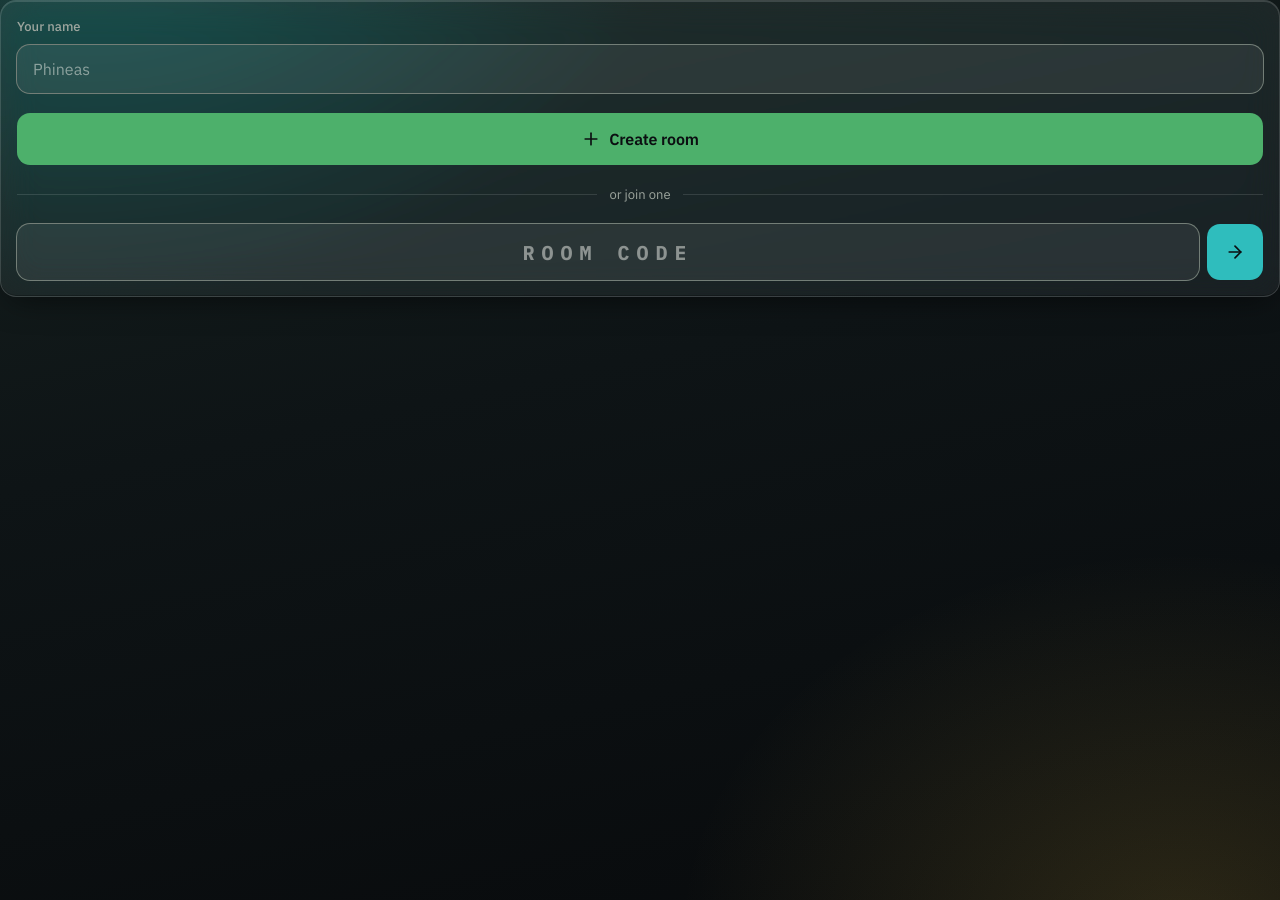
joining a room from the home screen › refuses to navigate without a code, and says why
The image size is (1280, 900).
Step 1. Type "Ravi" into the field labelled "Your name" → (640, 68), box [17,44,1263,92]
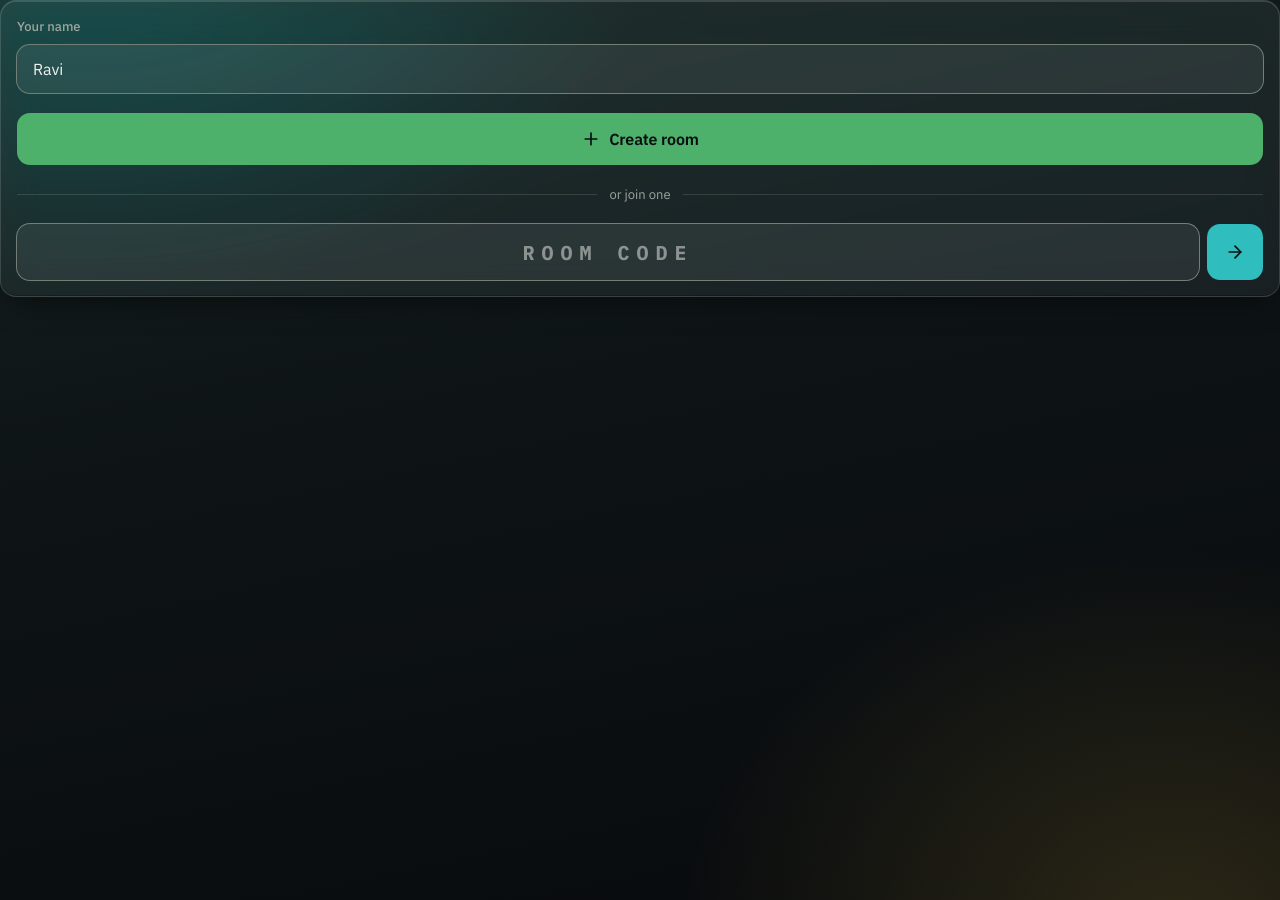
Step 2. Click the button named "join" → (1235, 252), box [1207,224,1263,280]
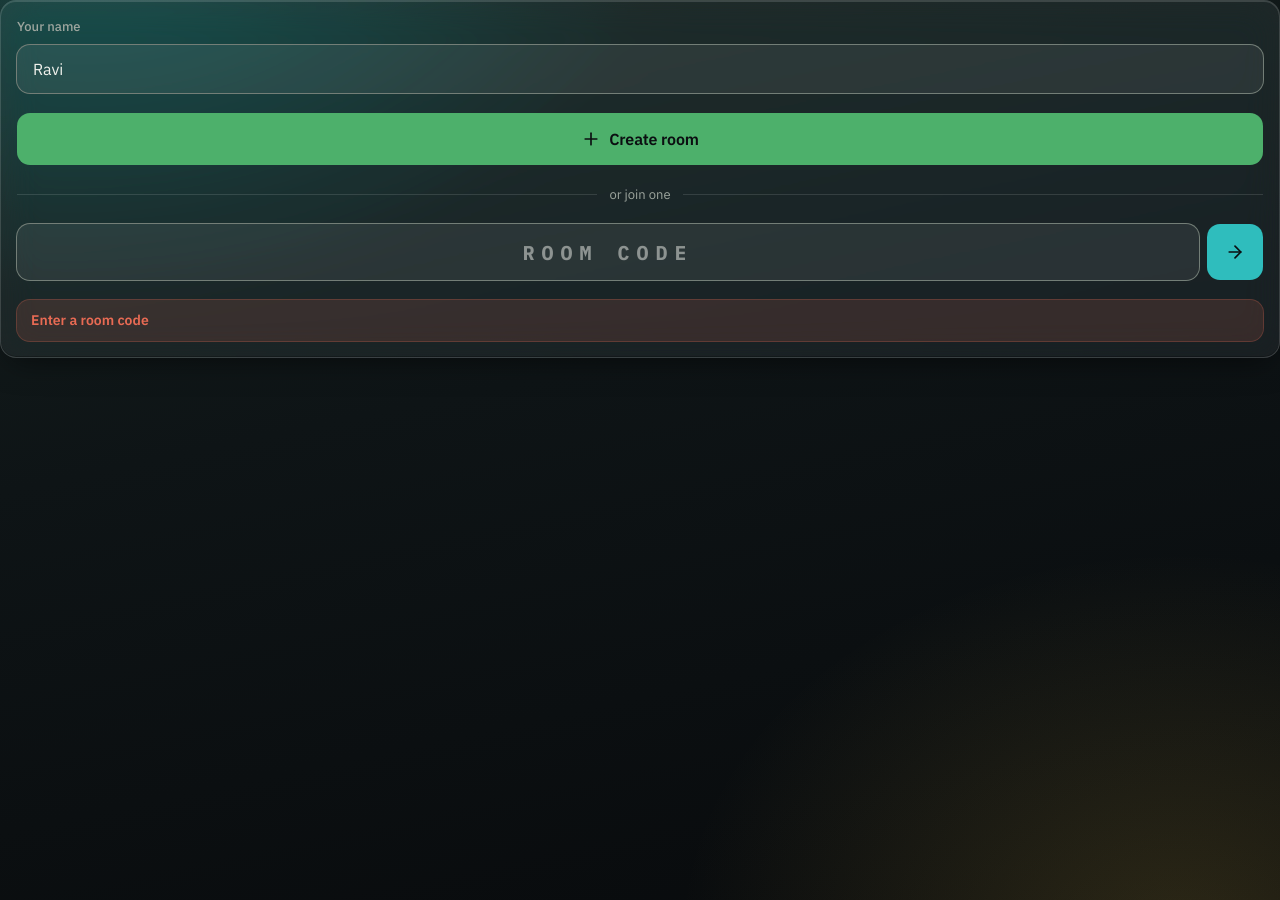
Expected: the text "Enter a room code" is shown, [17,300,1263,341]
